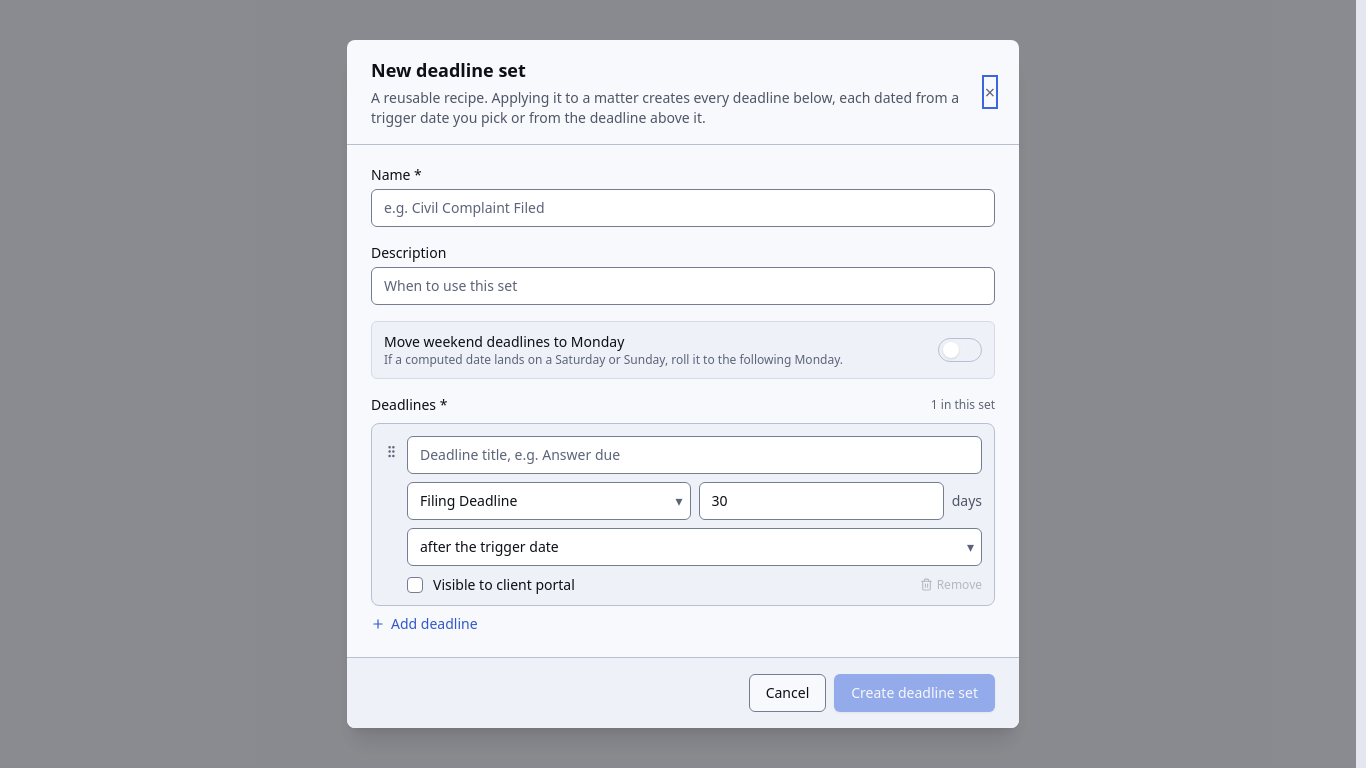
Test: the days field › stays empty once cleared and the save names the row that needs a number
This screenshot has width=1366, height=768.
Type "Civil" into the field labelled "Name *".
click(683, 208); type("Civil")  # box [371,189,995,227]
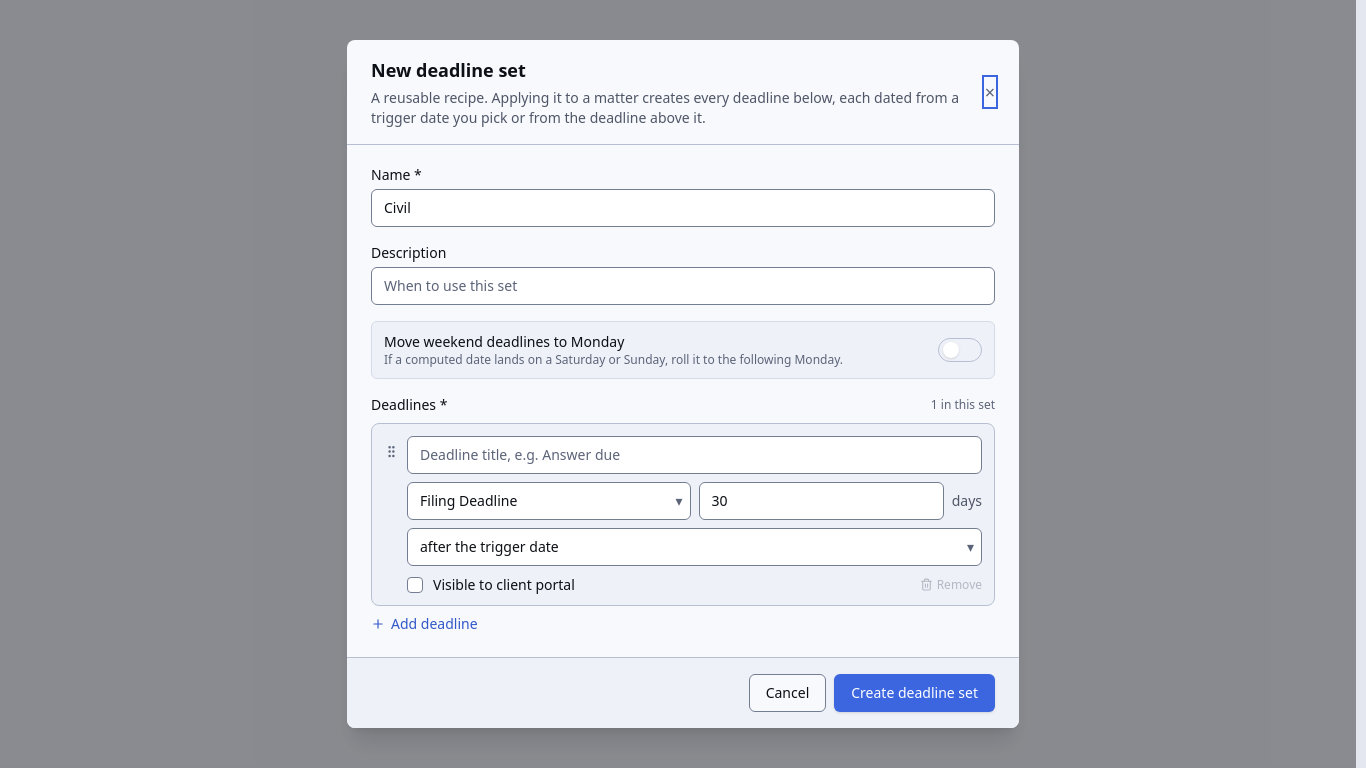
Type "Answer due" into the field with placeholder "Deadline title, e.g. Answer due".
click(694, 455); type("Answer due")  # box [407,436,982,474]
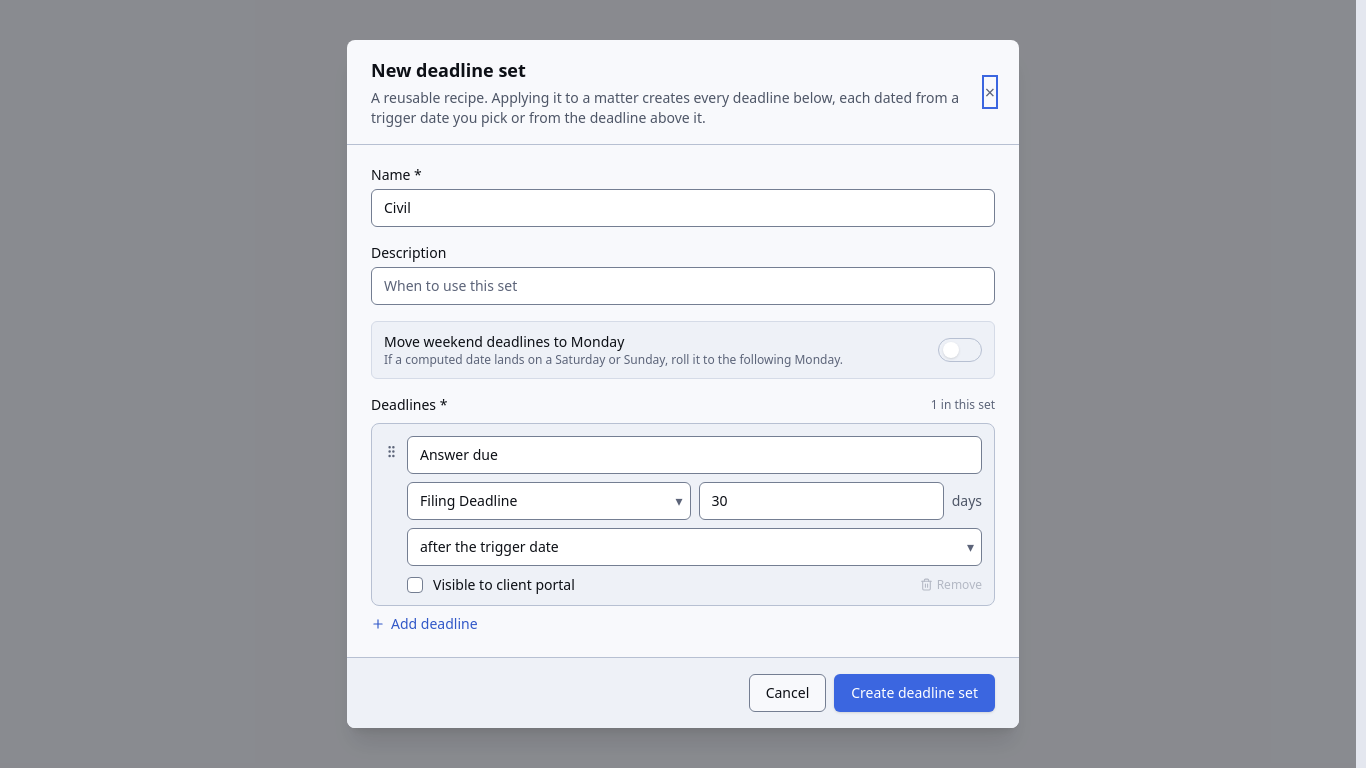
Clear the number field at (821, 501), box [698,482,944,520]
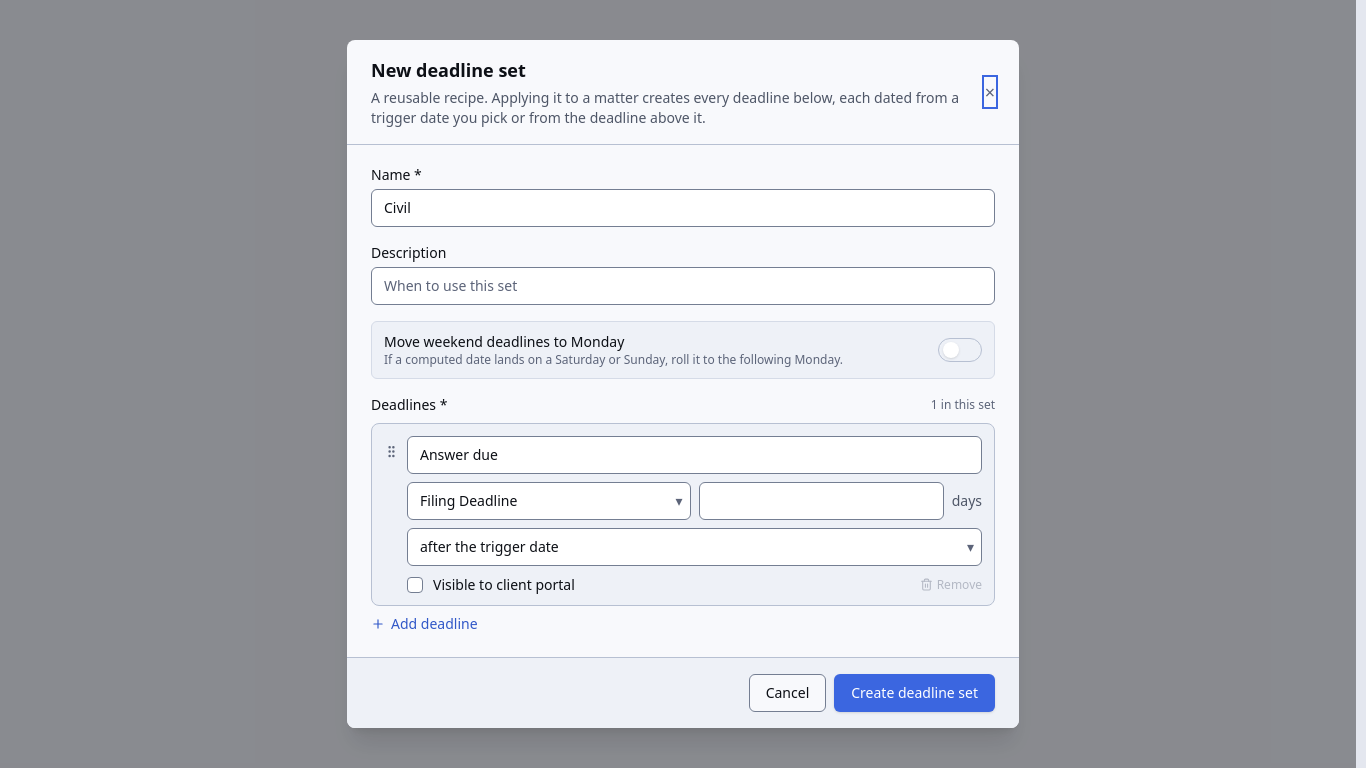
Click the button "Create deadline set".
click(915, 693)  # box [834,674,995,712]
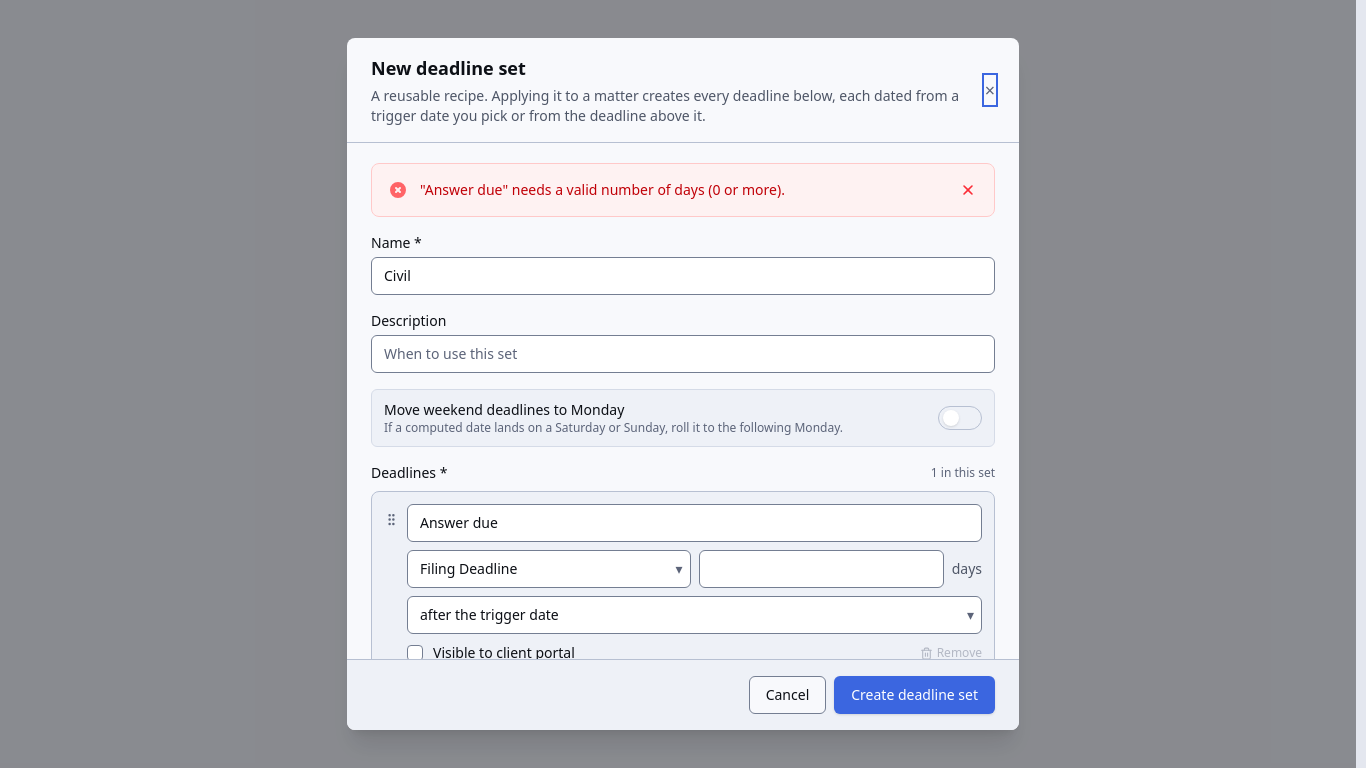
Check: the message shows "\"Answer due\" needs a valid number of days", box [420,180,785,199]
